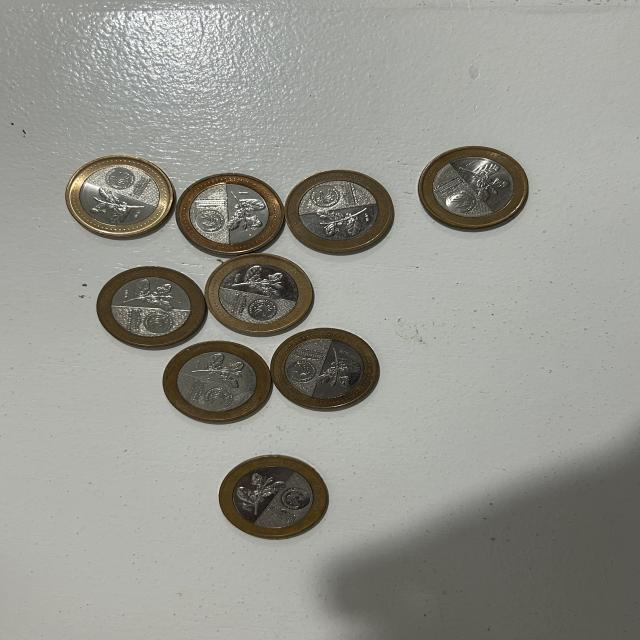20_New_Back: (232, 262, 288, 302), (221, 189, 268, 235), (88, 184, 142, 223), (192, 353, 252, 388), (315, 208, 375, 239), (319, 348, 361, 392), (125, 280, 180, 312), (462, 163, 512, 198), (238, 474, 279, 516)
